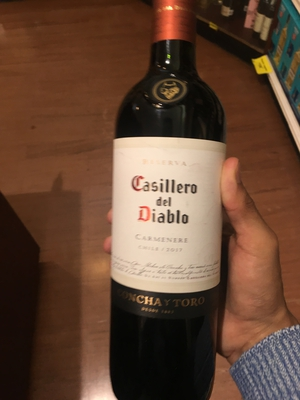casillero del diablo carmenere: (109, 12, 232, 400)
